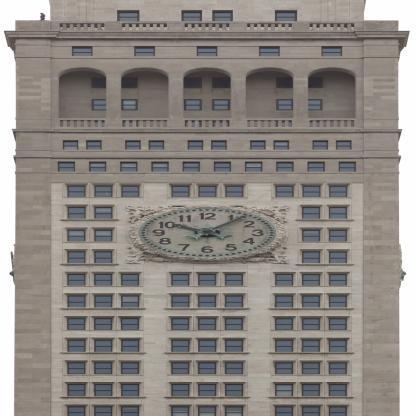Balcony: (16, 22, 398, 30)
Building Outline: (4, 0, 410, 416)
Deco: (125, 205, 289, 264)
Facade: (50, 0, 364, 416)
Floor: (16, 64, 399, 95), (16, 32, 399, 62), (15, 131, 399, 156), (49, 0, 364, 30), (15, 335, 399, 357), (15, 291, 399, 313), (15, 247, 399, 269), (15, 202, 399, 224), (15, 380, 399, 401), (15, 158, 399, 179), (15, 359, 399, 379), (15, 314, 399, 334), (15, 181, 399, 201), (15, 271, 399, 290), (15, 226, 399, 245), (16, 97, 399, 115), (15, 403, 399, 416), (16, 117, 399, 129)
Floor Slab: (15, 401, 399, 403), (15, 245, 399, 247), (15, 224, 399, 226), (15, 156, 399, 158), (15, 129, 399, 131), (16, 30, 399, 32), (16, 115, 399, 117), (16, 95, 399, 97), (16, 62, 399, 64), (15, 379, 399, 380), (15, 357, 399, 358), (15, 334, 399, 335), (15, 313, 399, 314), (15, 290, 399, 291), (15, 269, 399, 270), (15, 201, 399, 202), (15, 179, 399, 180)
Molding: (4, 30, 409, 38)
Sill: (60, 396, 146, 398), (268, 396, 354, 398), (60, 352, 146, 354), (268, 352, 354, 354), (60, 307, 146, 309), (268, 307, 354, 309), (165, 396, 250, 398), (165, 352, 250, 354), (165, 307, 250, 309), (295, 219, 354, 221), (295, 263, 354, 265), (60, 219, 119, 221), (60, 263, 119, 265)
Window: (58, 68, 106, 118), (121, 68, 169, 118), (183, 68, 231, 118), (246, 68, 294, 118), (308, 68, 355, 118), (275, 10, 297, 21), (117, 10, 139, 21), (212, 10, 233, 21), (182, 10, 202, 21), (329, 384, 347, 396), (275, 384, 293, 396), (302, 384, 320, 396), (121, 384, 139, 396), (225, 384, 243, 396), (171, 384, 189, 396), (198, 384, 216, 396), (329, 363, 347, 375), (275, 363, 293, 375), (302, 363, 320, 375), (121, 363, 139, 375), (225, 363, 243, 375), (171, 363, 189, 375), (198, 363, 216, 375), (329, 340, 347, 352), (275, 340, 293, 352), (302, 340, 320, 352), (121, 340, 139, 352), (225, 340, 243, 352), (171, 340, 189, 352), (198, 340, 216, 352), (329, 318, 347, 330), (275, 318, 293, 330), (302, 318, 320, 330), (121, 318, 139, 330), (225, 318, 243, 330), (171, 318, 189, 330), (198, 318, 216, 330), (329, 296, 347, 308), (275, 296, 293, 308), (302, 296, 320, 308), (121, 296, 139, 308), (225, 296, 243, 308), (171, 296, 189, 308), (198, 296, 216, 308), (121, 274, 139, 286), (171, 274, 189, 286), (198, 274, 216, 286), (225, 274, 243, 286), (329, 274, 347, 286), (302, 274, 320, 286), (329, 251, 347, 263), (302, 251, 320, 263), (329, 230, 347, 242), (302, 230, 320, 242), (329, 207, 347, 219), (302, 207, 320, 219), (68, 384, 85, 396), (95, 384, 112, 396), (68, 363, 85, 375), (95, 363, 112, 375), (68, 340, 85, 352), (95, 340, 112, 352), (68, 318, 85, 330), (95, 318, 112, 330), (68, 296, 85, 308), (95, 296, 112, 308), (276, 274, 293, 286), (95, 274, 112, 286), (68, 274, 85, 286), (95, 251, 112, 263), (68, 251, 85, 263), (95, 230, 112, 242), (68, 230, 85, 242), (68, 207, 85, 219), (95, 207, 112, 219), (322, 46, 342, 56), (73, 46, 93, 56), (135, 46, 155, 56), (197, 46, 217, 56), (259, 46, 279, 56), (329, 186, 347, 197), (171, 186, 189, 197), (198, 186, 216, 197), (302, 186, 320, 197), (277, 78, 295, 89), (305, 78, 323, 89), (277, 119, 295, 130), (305, 119, 323, 130), (184, 78, 202, 89), (213, 78, 231, 89), (184, 119, 202, 130), (213, 119, 231, 130), (92, 78, 110, 89), (121, 78, 139, 89), (92, 119, 110, 130), (121, 119, 139, 130), (277, 100, 295, 111), (305, 100, 323, 111), (184, 100, 202, 111), (213, 100, 231, 111), (92, 100, 110, 111), (121, 100, 139, 111), (276, 186, 293, 197), (122, 186, 139, 197), (95, 186, 112, 197), (226, 186, 243, 197), (68, 186, 85, 197), (89, 162, 107, 172), (151, 162, 169, 172), (183, 162, 201, 172), (307, 162, 325, 172), (329, 406, 347, 416), (302, 406, 320, 416), (121, 406, 139, 416), (225, 406, 243, 416), (198, 406, 216, 416), (245, 162, 262, 172), (277, 162, 294, 172), (214, 162, 231, 172), (339, 162, 356, 172), (276, 406, 293, 416), (95, 406, 112, 416), (68, 406, 85, 416), (172, 406, 189, 416), (86, 140, 102, 150), (336, 140, 352, 150), (63, 140, 78, 150), (313, 140, 328, 150), (251, 140, 266, 150), (274, 140, 289, 150), (188, 140, 203, 150), (211, 140, 226, 150), (126, 140, 141, 150), (149, 140, 164, 150)
